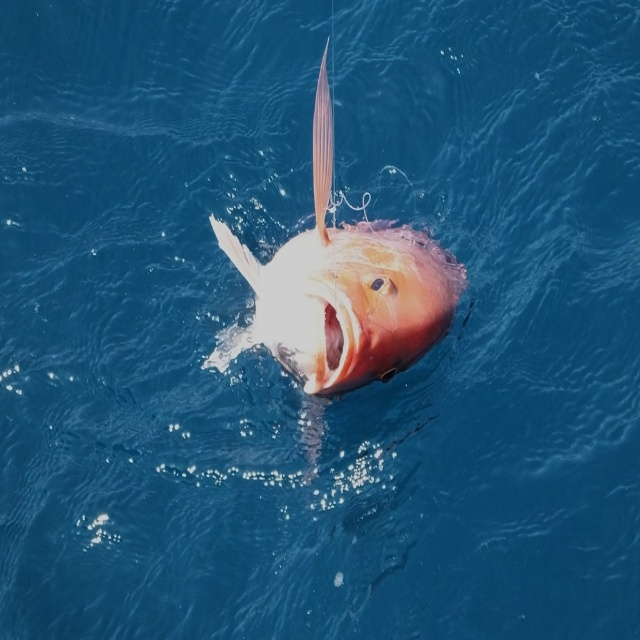Fish: (209, 36, 470, 404)
